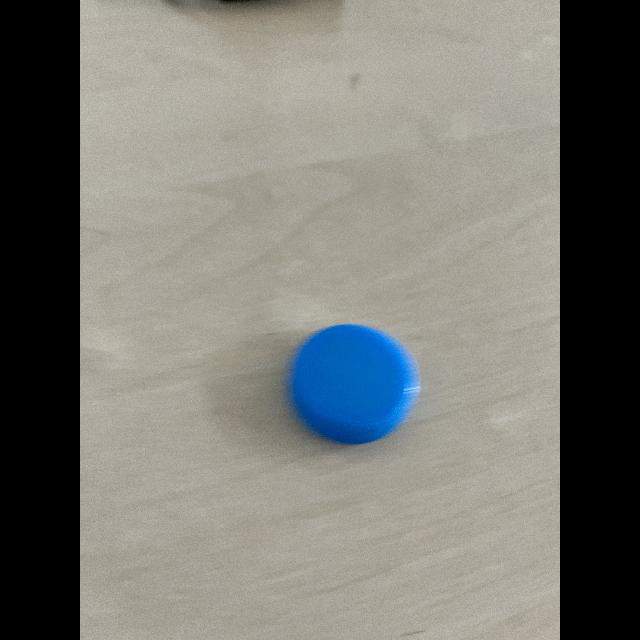plastic_bottle_cap: (270, 314, 430, 452)
